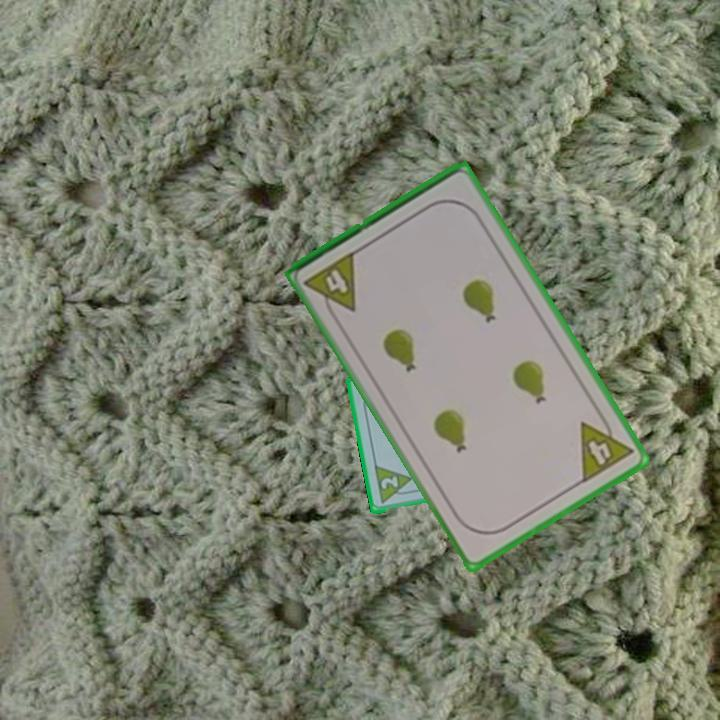2p: (371, 463, 417, 507)
4p: (576, 408, 636, 486), (301, 247, 360, 324)
